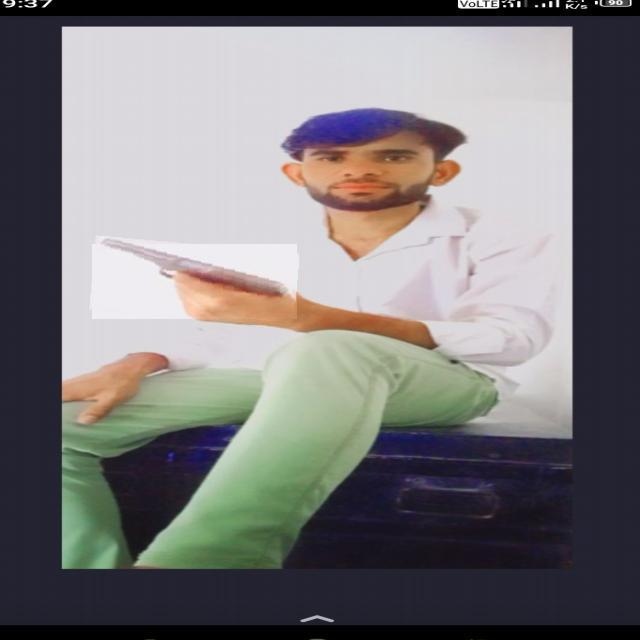handgun: (90, 240, 298, 323)
